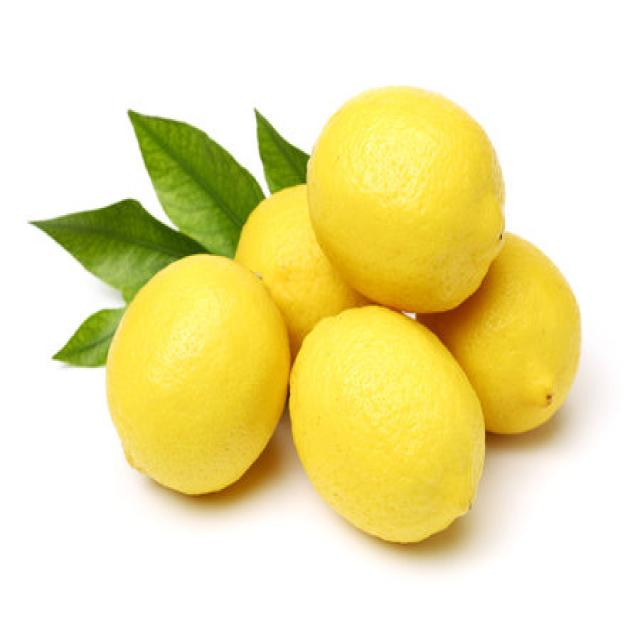Lemon: (287, 302, 485, 544), (304, 83, 505, 313), (104, 251, 290, 496), (416, 230, 582, 436), (233, 182, 360, 356)
